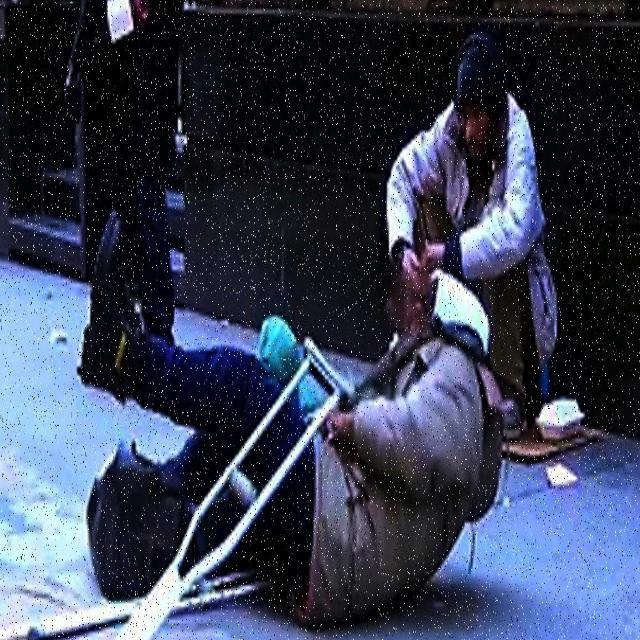fall: (82, 240, 489, 632)
